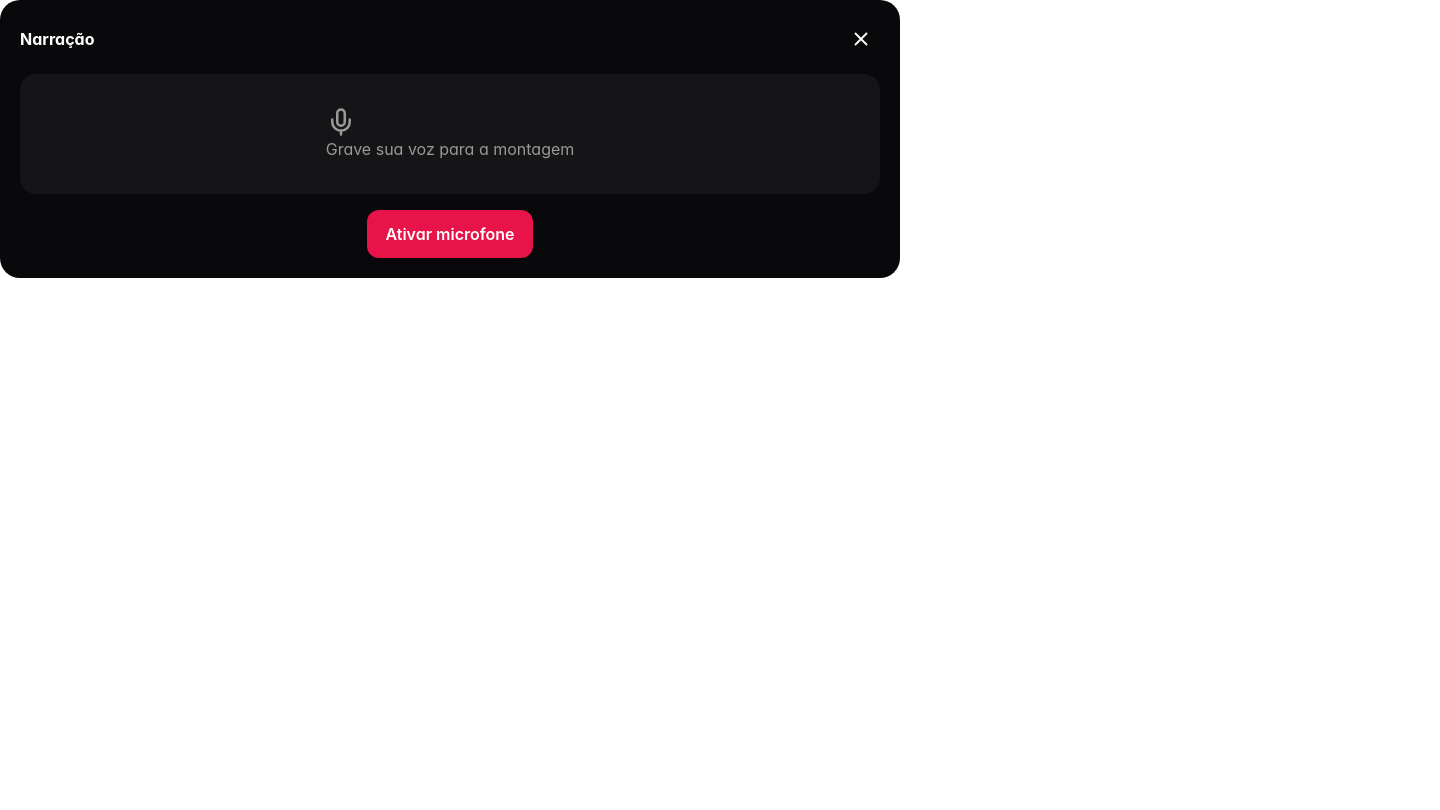
Test: StudioRecorder com lifecycle React real › depois de descartar para gravar outro, Fechar cancela a nova permissão pendente sem esperar a entrada tardia
Later steps or results of the test are not shown.
Click the button "Ativar microfone" at point(450, 234), box [368, 210, 532, 258]
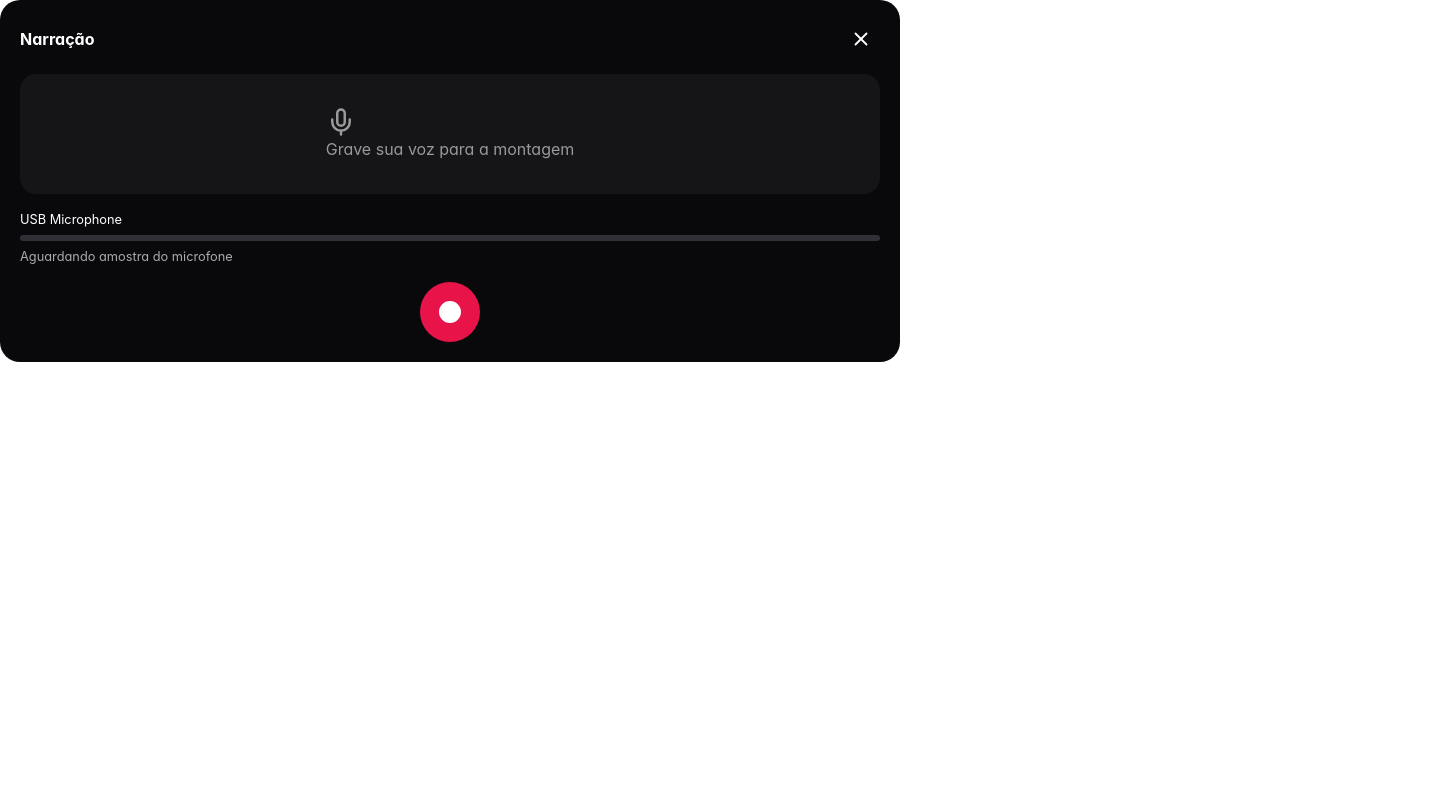
Click the button named "Iniciar gravação" at point(450, 312), box [420, 282, 480, 342]
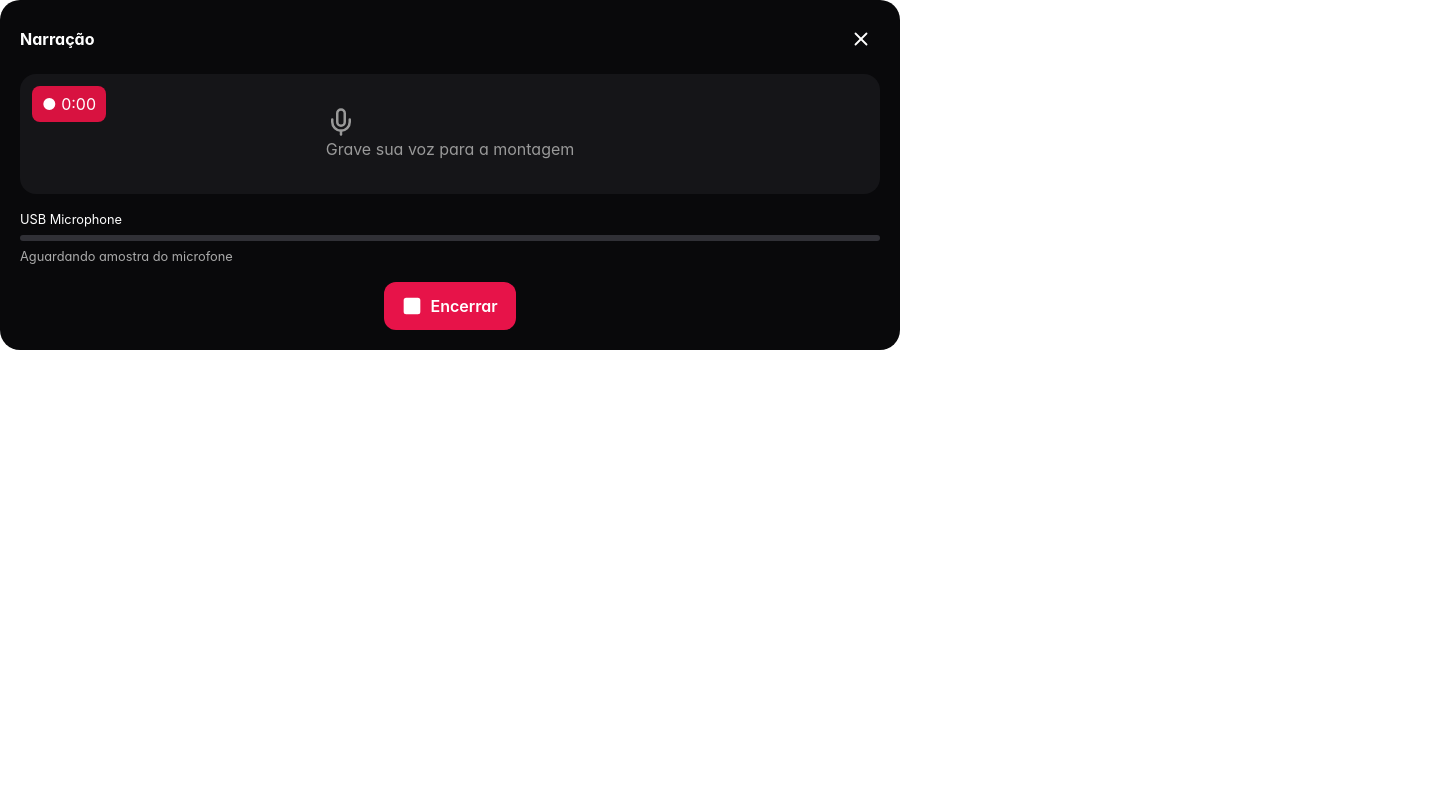
Click the button "Encerrar" at point(450, 306), box [384, 282, 516, 330]
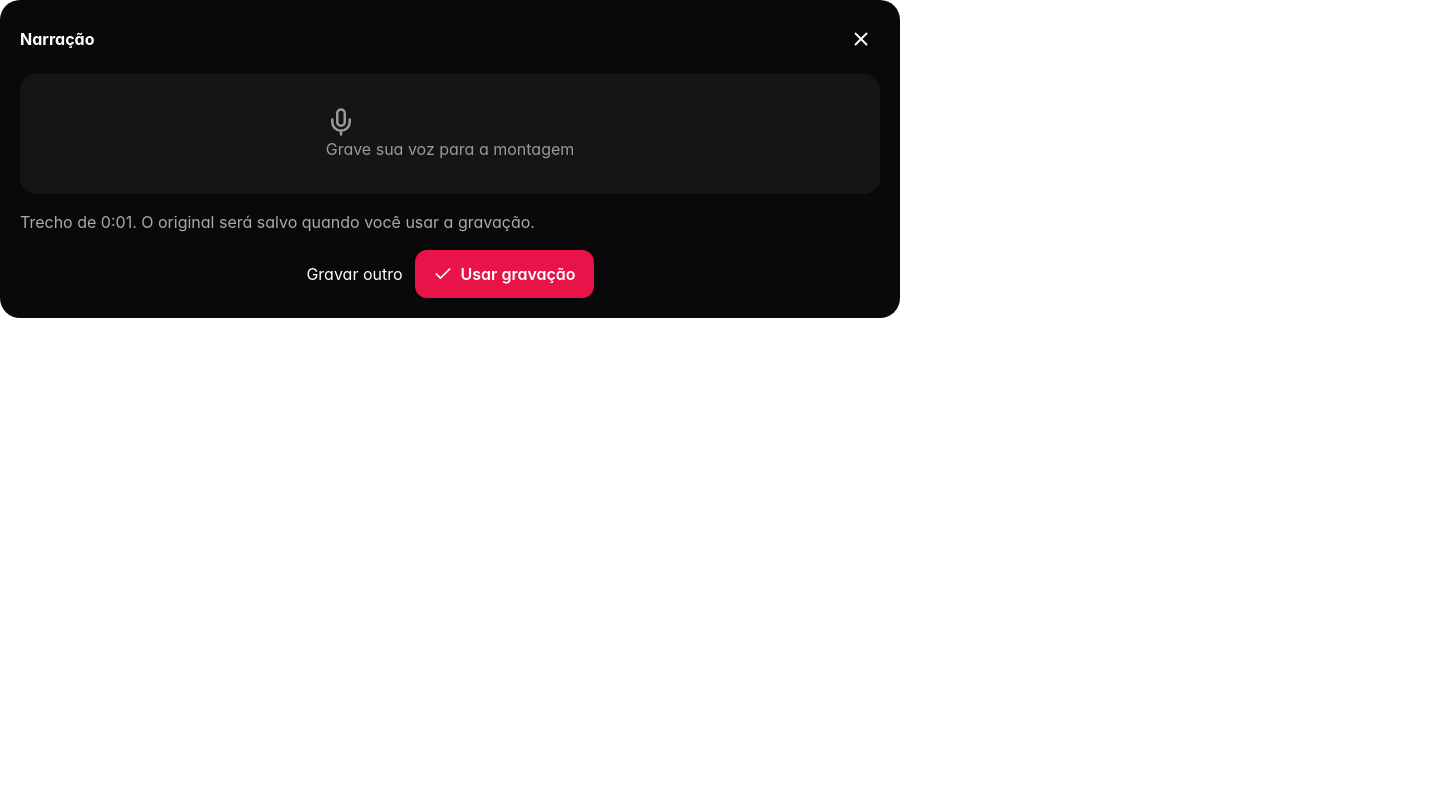
Result: the button "Gravar outro" is shown
Click the button "Gravar outro" at point(354, 274), box [306, 262, 402, 286]
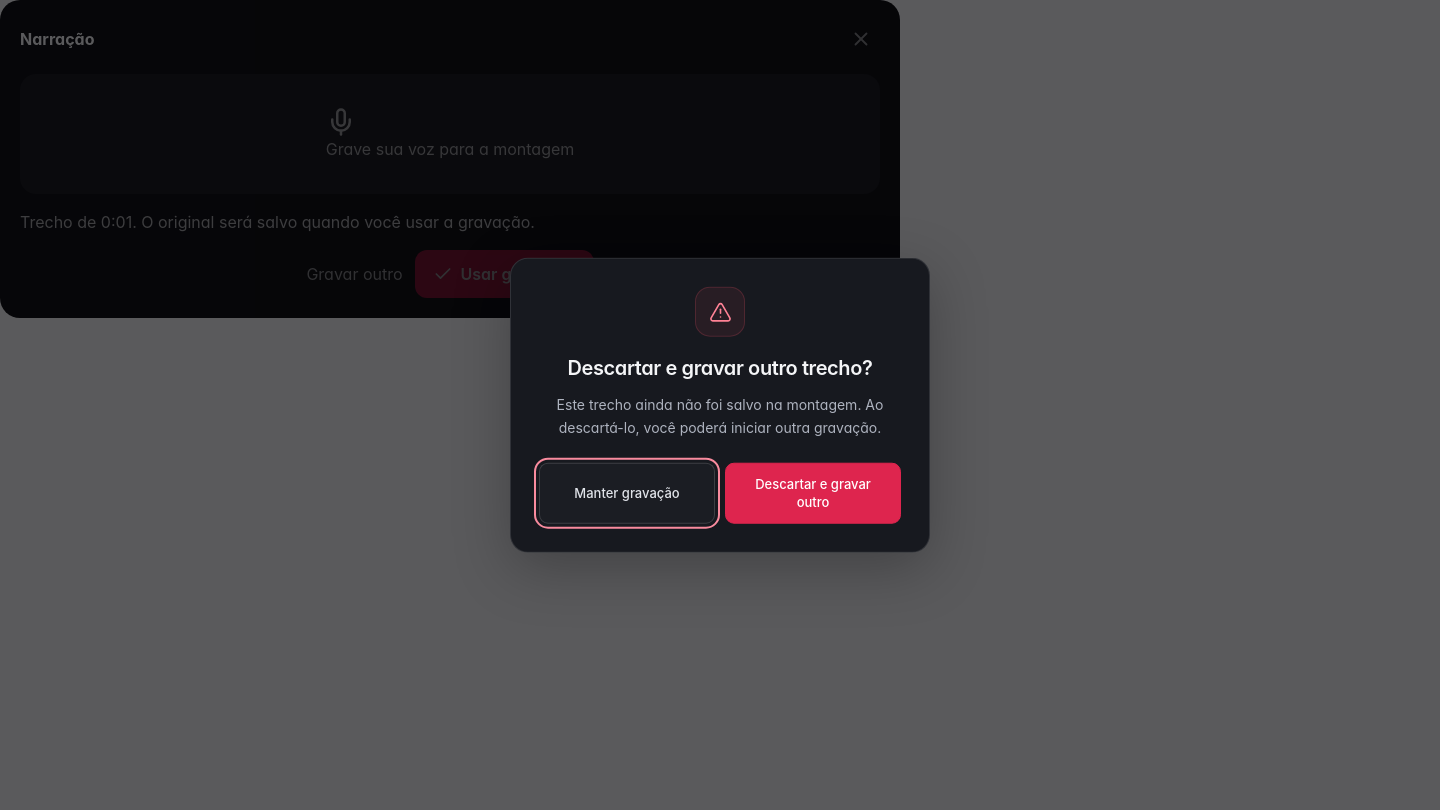
Result: the dialog is shown at [510, 258, 930, 552]
Result: the button "Descartar e gravar outro" is shown
Click the button "Descartar e gravar outro" at point(813, 493), box [725, 463, 901, 523]
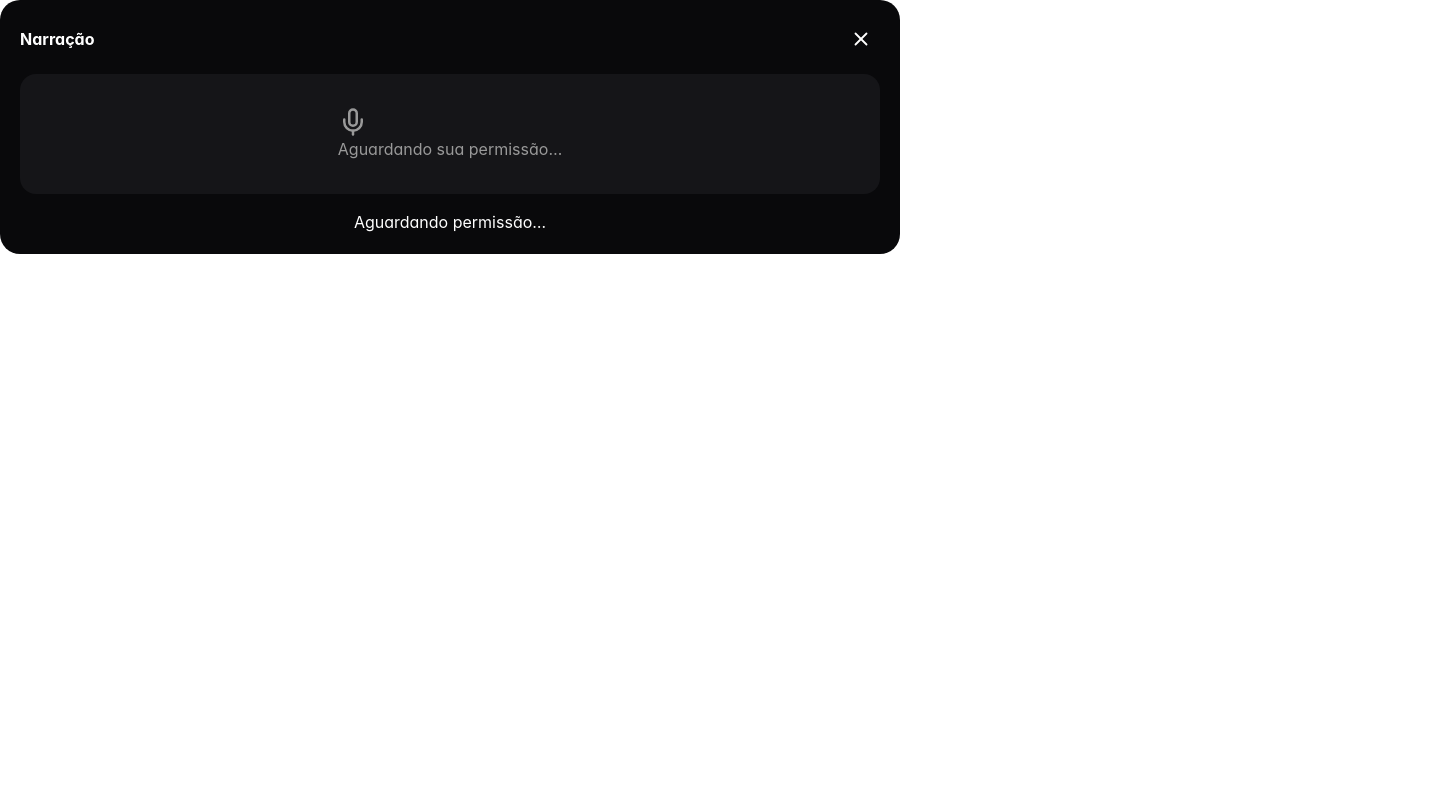
Expected: the button named "Fechar gravação" is shown, [842, 20, 880, 58]
Result: the text "Aguardando sua permissão" is shown at [338, 139, 562, 159]
